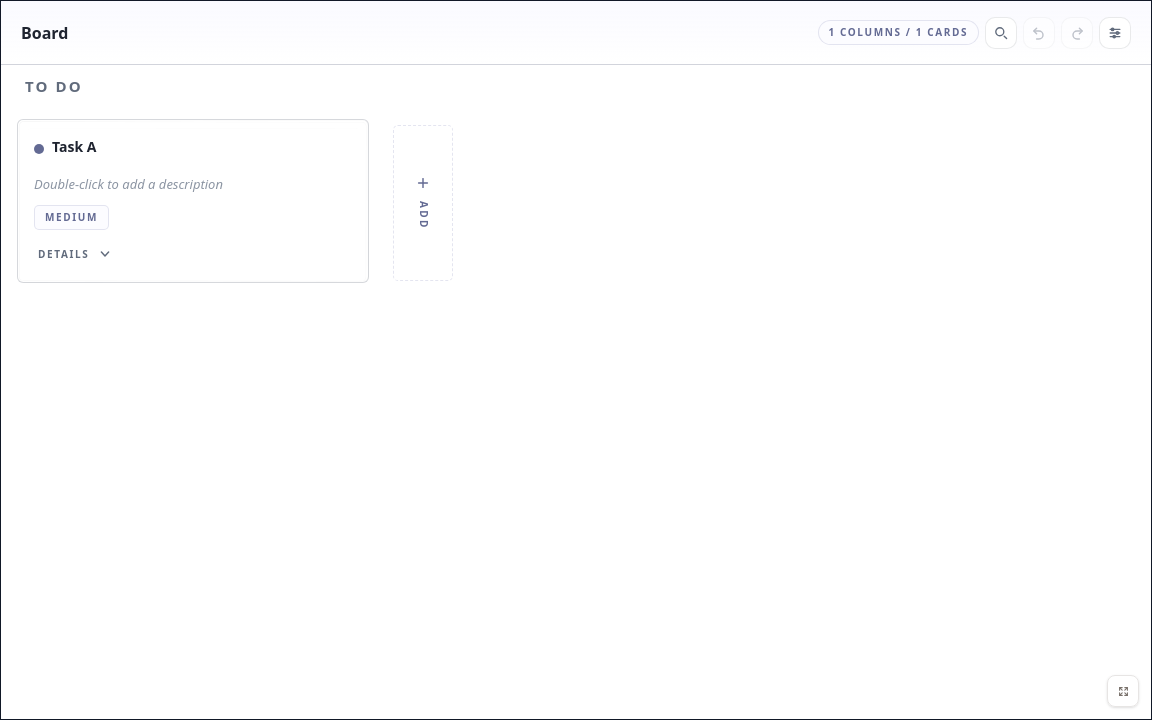
Test: KanbanBoardContainer › opens board settings from the header and dismisses them on escape
The width and height of the screenshot is (1152, 720).
Click the button named "Board appearance" at (1115, 32), box [1099, 16, 1131, 48]
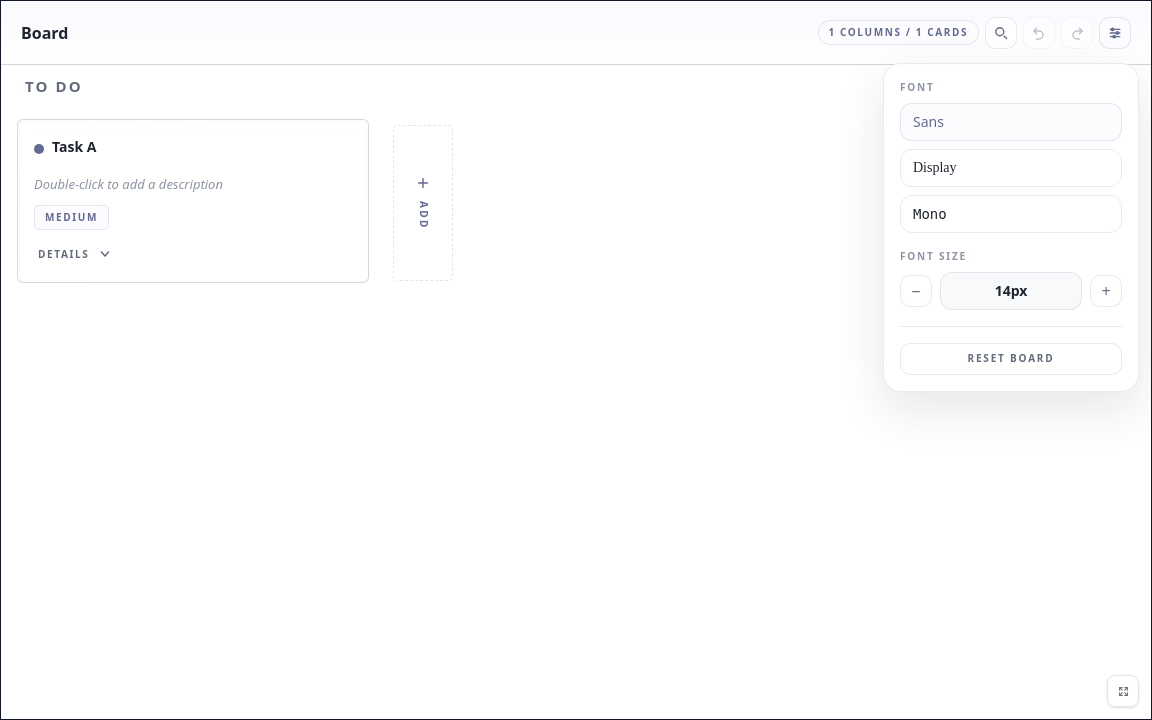
Now the button "Reset board" is shown, box [900, 343, 1122, 375]
Press Escape
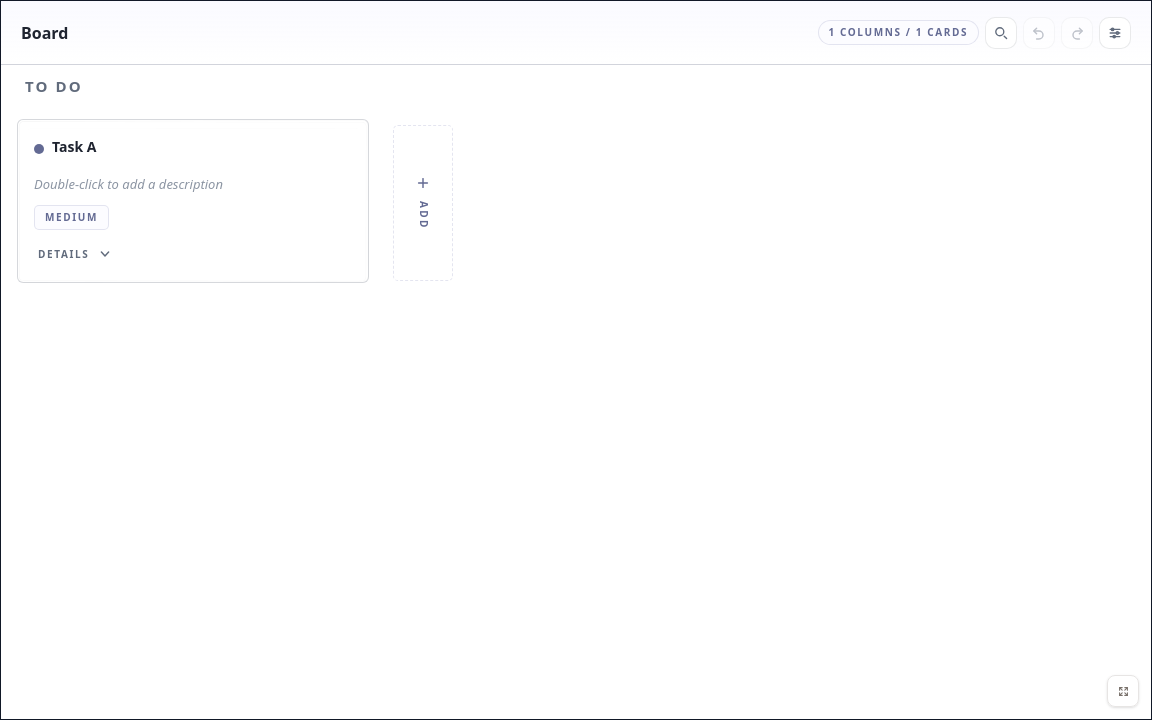
Now the button "Reset board" is gone
